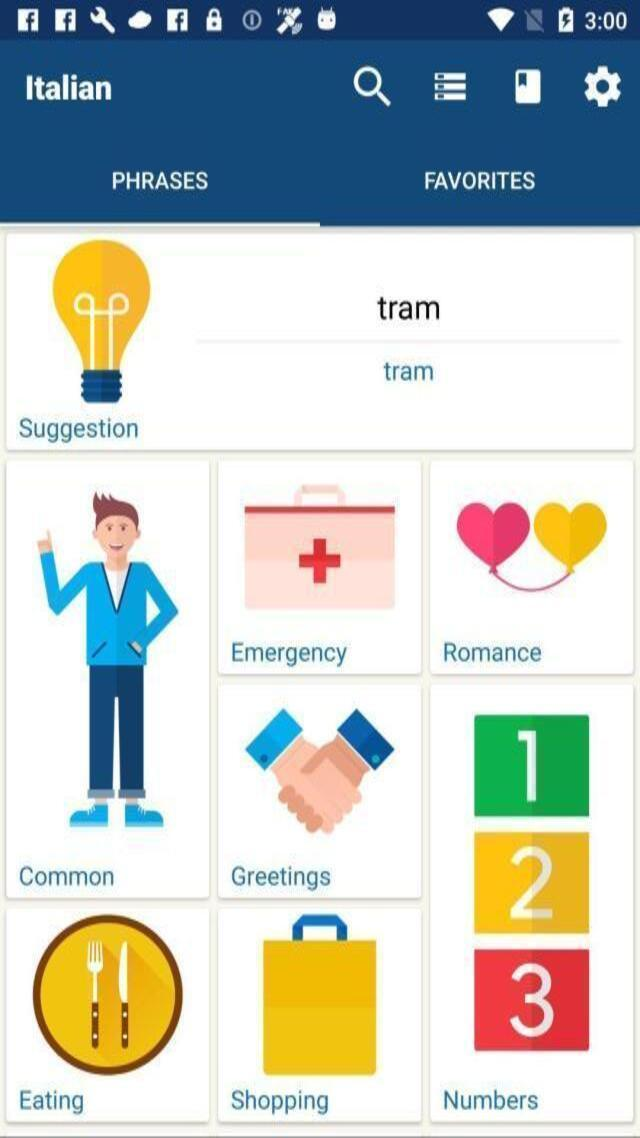Icon: (580, 63, 628, 111), (353, 60, 391, 106), (432, 67, 474, 106), (514, 66, 542, 106), (485, 1, 516, 34)
Image: (35, 487, 180, 827), (32, 916, 186, 1074), (237, 702, 402, 835), (244, 484, 398, 612), (52, 242, 154, 403), (453, 501, 613, 597), (266, 940, 375, 1076), (473, 946, 590, 1053), (477, 712, 591, 818), (474, 830, 590, 932)
Text: (18, 66, 128, 113), (16, 409, 146, 448), (224, 632, 356, 670), (228, 858, 338, 897), (440, 1080, 542, 1118), (228, 1086, 332, 1123), (438, 634, 546, 666), (14, 860, 120, 892), (12, 1080, 91, 1119), (370, 290, 448, 328), (374, 352, 442, 390)
TextButton: (434, 684, 634, 1126), (11, 462, 212, 894), (9, 900, 207, 1126), (3, 229, 201, 452), (220, 460, 420, 676), (433, 460, 631, 675), (223, 908, 418, 1126), (222, 684, 420, 894), (414, 163, 540, 196), (100, 164, 216, 196)
